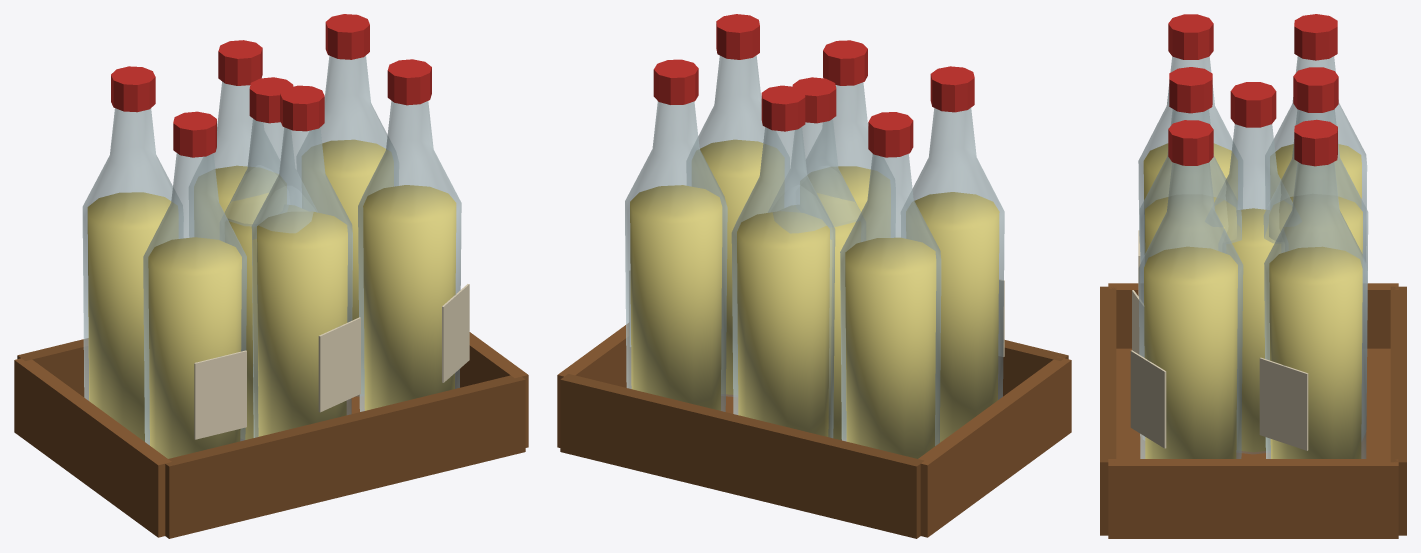
File: Proc_CookingOil.fbx
The picture shows the model from 3 angles, left to right: view 1: azimuth 30°, elevation 25°; view 2: azimuth 150°, elevation 25°; view 3: azimuth 270°, elevation 25°; orthographic projection.
Parts seen in each view (by area): view 1: Proc_CookingOil__Stack, Proc_CookingOil; view 2: Proc_CookingOil__Stack, Proc_CookingOil; view 3: Proc_CookingOil__Stack, Proc_CookingOil.
Part boxes in pixels (<box>): Proc_CookingOil__Stack: <box>14,14,528,538</box>; Proc_CookingOil: <box>220,77,317,439</box>; Proc_CookingOil__Stack: <box>557,14,1071,538</box>; Proc_CookingOil: <box>768,77,865,440</box>; Proc_CookingOil__Stack: <box>1100,14,1406,538</box>; Proc_CookingOil: <box>1214,82,1292,454</box>.
Bounding box in the file's own units: 0.214 × 0.203 × 0.152.
